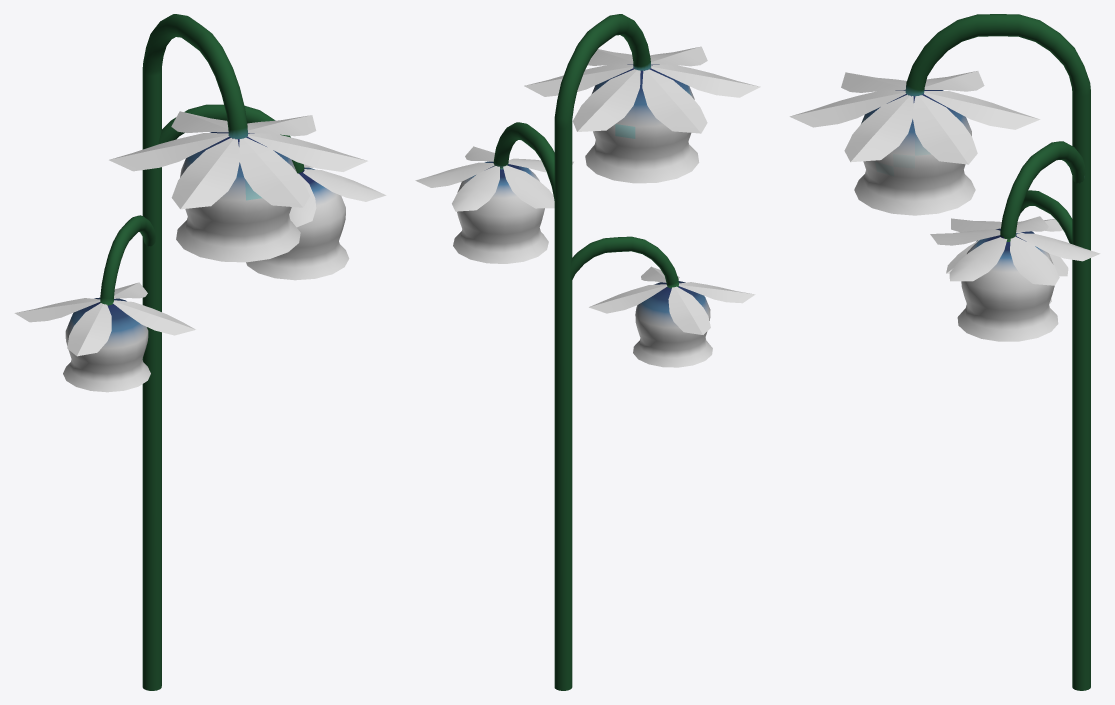
File: LotVLamp.fbx
The picture shows the model from 3 angles, left to right: view 1: azimuth 30°, elevation 25°; view 2: azimuth 150°, elevation 25°; view 3: azimuth 270°, elevation 25°; orthographic projection. The views are drawn at different scales.
Visible parts, largest first — view 1: flowerlight_big, leafgroup_big, flowerlight_small, flowerlight_medium, leafgroupsmall, leafgroup_medium; view 2: flowerlight_big, leafgroup_big, flowerlight_medium, flowerlight_small, leafgroup_medium, leafgroupsmall; view 3: flowerlight_big, leafgroup_big, flowerlight_medium, leafgroup_medium, leafgroupsmall, flowerlight_small.
Part boxes in pixels (x1,y1,x2,y2): flowerlight_big: (142, 14, 300, 690); leafgroup_big: (109, 111, 367, 209); flowerlight_small: (63, 215, 155, 392); flowerlight_medium: (158, 104, 349, 280); leafgroupsmall: (14, 282, 195, 356); leafgroup_medium: (289, 164, 386, 227); flowerlight_big: (554, 14, 699, 690); leafgroup_big: (524, 46, 760, 133); flowerlight_medium: (453, 122, 554, 263); flowerlight_small: (570, 236, 712, 367); leafgroup_medium: (415, 146, 573, 211); leafgroupsmall: (589, 266, 755, 334); flowerlight_big: (854, 14, 1090, 690); leafgroup_big: (789, 71, 1039, 164); flowerlight_medium: (957, 141, 1085, 341); leafgroup_medium: (930, 216, 1100, 285); leafgroupsmall: (946, 218, 1068, 276); flowerlight_small: (976, 190, 1072, 304).
Size of the model in its own units: 213 by 439 by 185.
